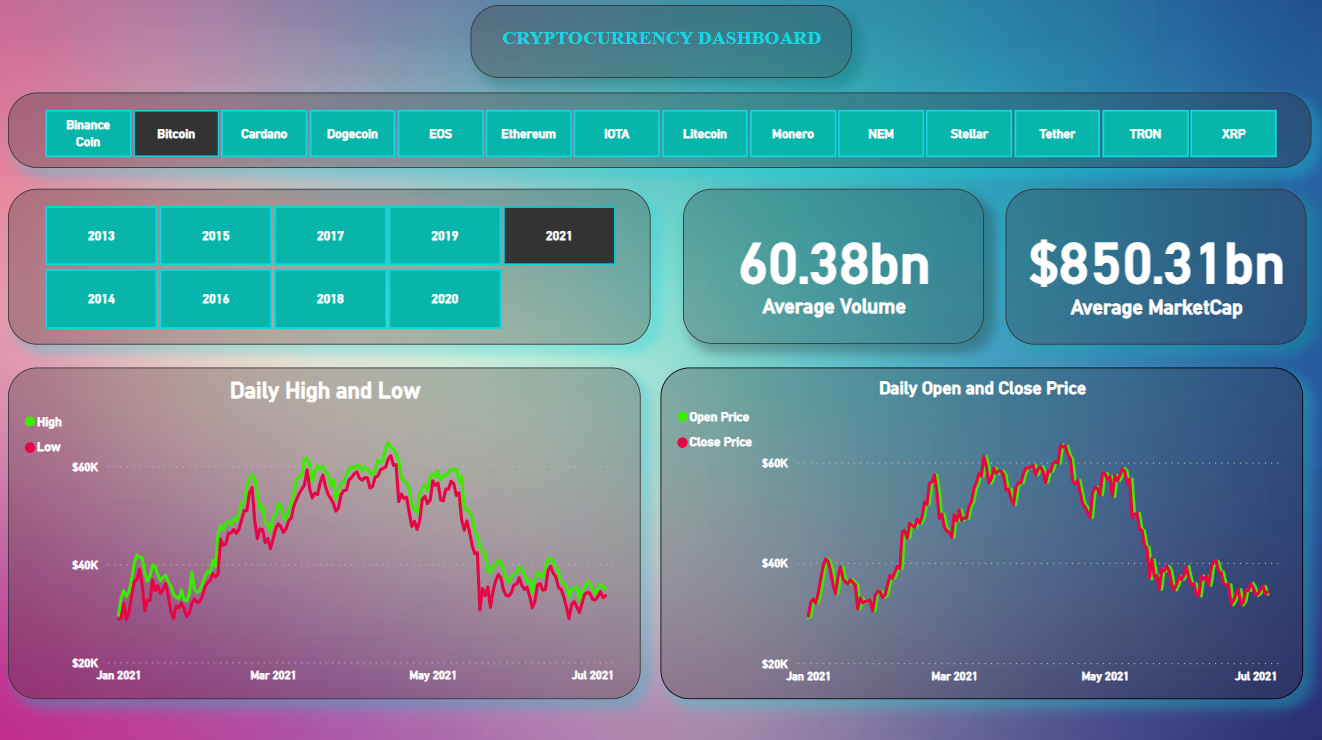

The dashboard page shown, as its layout file describes it:
{"tool":"powerbi","page":{"name":"Page 1","canvas":[1280,720],"ordinal":0},"visuals":[{"type":"slicer","fields":{"Values":["Crypto.Name"]},"box":[9.8,93.5,1257.8,72.6],"z":0},{"type":"slicer","fields":{"Values":["Crypto.Date.Variation.Date Hierarchy.Year"]},"box":[10,187.1,620,150],"z":1000},{"type":"card","fields":{"Values":["Avg(Crypto.Marketcap)"]},"box":[972.3,187,290,150],"z":1002},{"type":"card","fields":{"Values":["Avg(Crypto.Volume)"]},"box":[660.9,187,290,149.5],"z":1003},{"type":"lineChart","title":"Daily Open and Close Price","fields":{"Category":["Crypto.Date.Variation.Date Hierarchy.Year","Crypto.Date.Variation.Date Hierarchy.Quarter","Crypto.Date.Variation.Date Hierarchy.Month","Crypto.Date.Variation.Date Hierarchy.Day"],"Y":["Sum(Crypto.Open)","Sum(Crypto.Close)"]},"box":[639.5,359.5,620,320],"z":1004},{"type":"textbox","box":[455.4,9.8,368,70.2],"z":1005},{"type":"lineChart","title":"Daily High and Low","fields":{"Category":["Crypto.Date.Variation.Date Hierarchy.Year","Crypto.Date.Variation.Date Hierarchy.Quarter","Crypto.Date.Variation.Date Hierarchy.Month","Crypto.Date.Variation.Date Hierarchy.Day"],"Y":["Sum(Crypto.High)","Sum(Crypto.Low)"]},"box":[9.6,359.5,610.6,319.7],"z":1006}]}

Visuals, with their boxes in screenshot pixels (x1, y1, x2, y2), scaled from the page's 1280x720 canvas onto the 1322x740 screenshot:
slicer - Crypto.Name: l=10, t=96, r=1309, b=171
slicer - Crypto.Date.Variation.Date Hierarchy.Year: l=10, t=192, r=651, b=346
card - Avg(Crypto.Marketcap): l=1004, t=192, r=1304, b=346
card - Avg(Crypto.Volume): l=683, t=192, r=982, b=346
"Daily Open and Close Price" lineChart: l=660, t=369, r=1301, b=698
textbox: l=470, t=10, r=850, b=82
"Daily High and Low" lineChart: l=10, t=369, r=641, b=698
